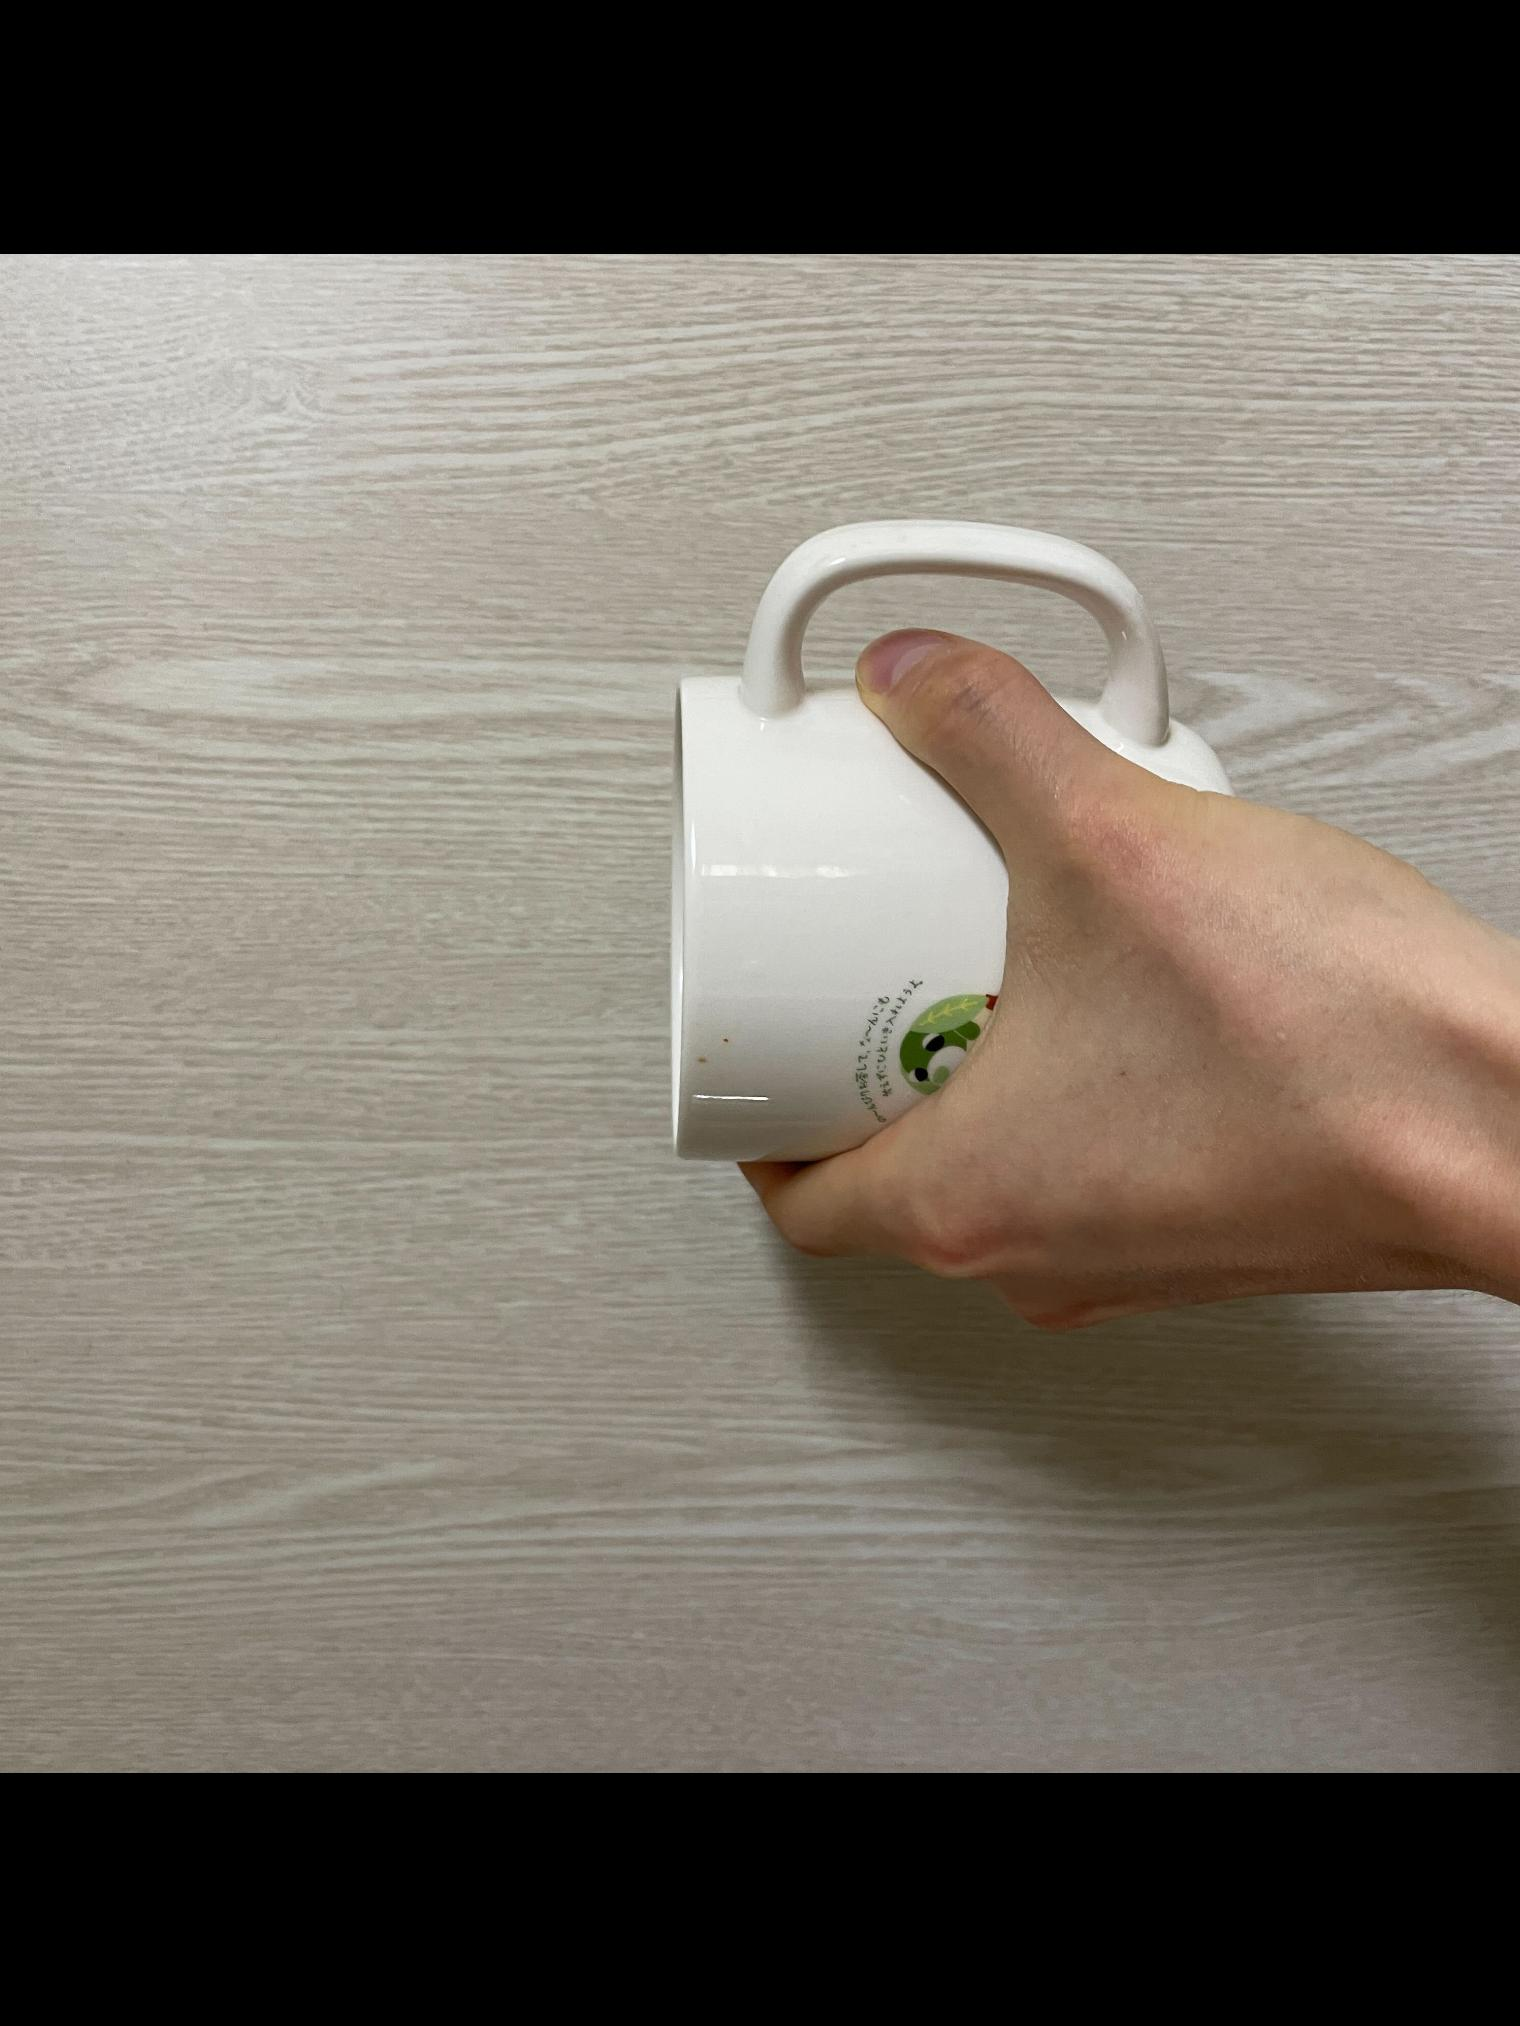cup: (647, 497, 1520, 1348)
